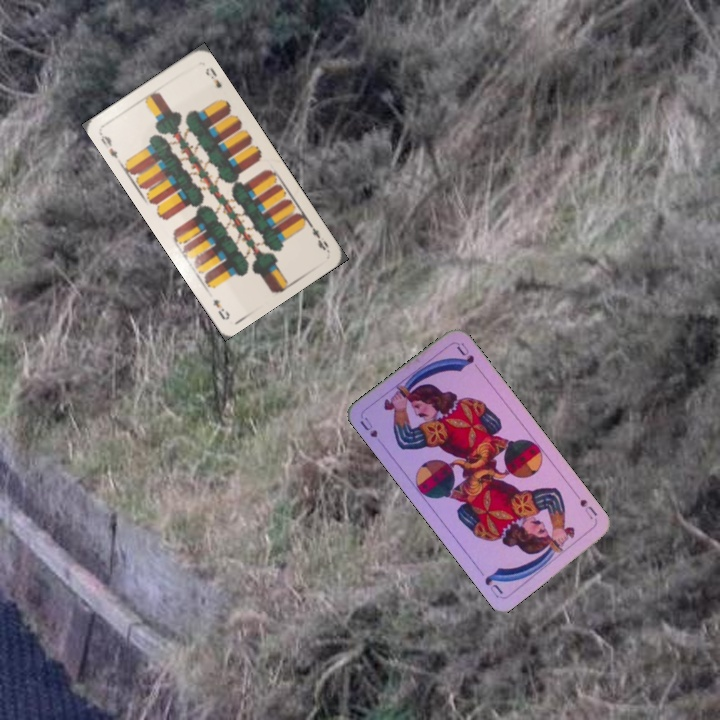E9: (304, 217, 332, 253), (96, 129, 121, 161)
SU: (356, 413, 387, 450), (576, 495, 600, 524)
